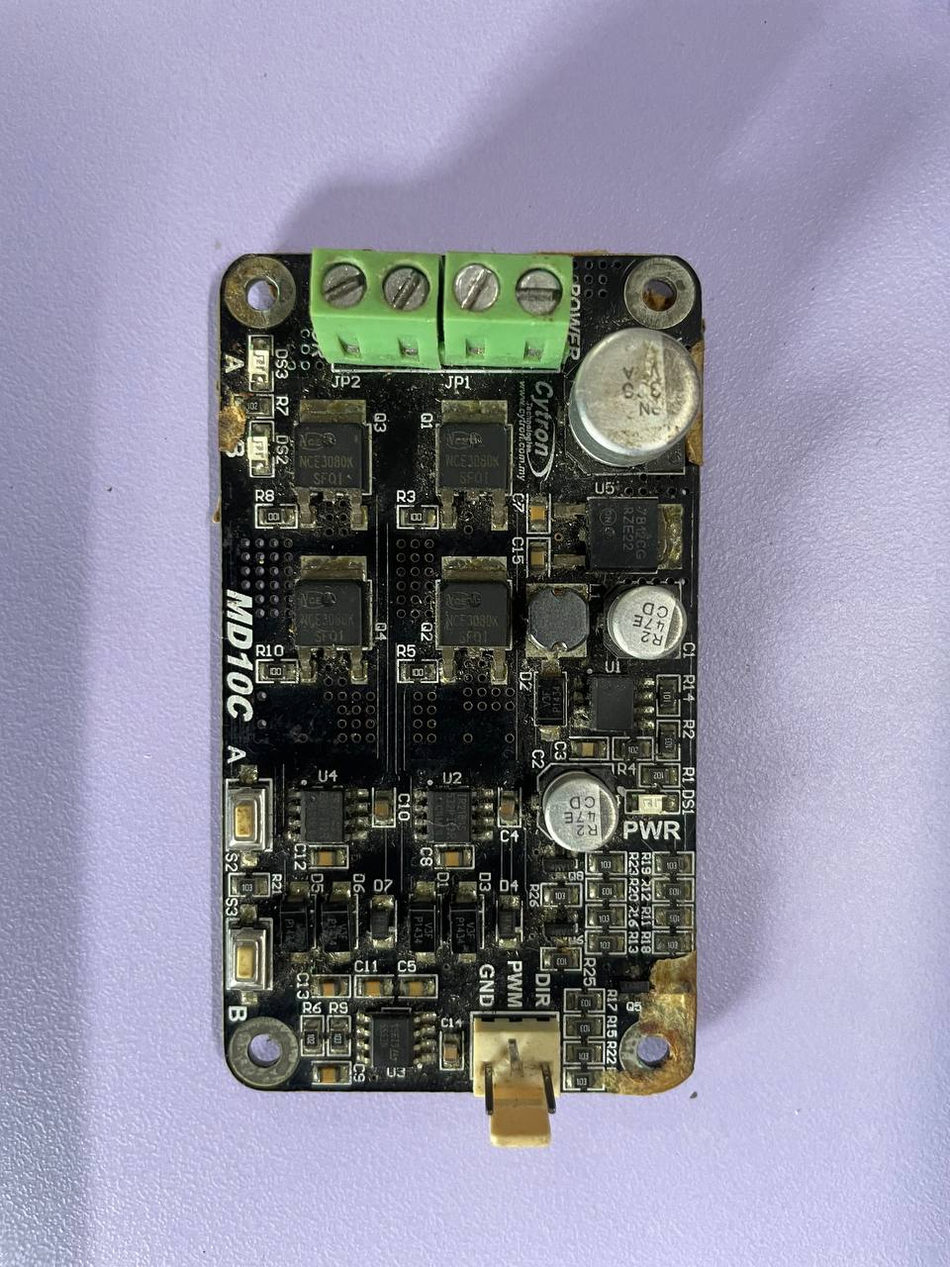bent_pin: (498, 1029, 532, 1084)
